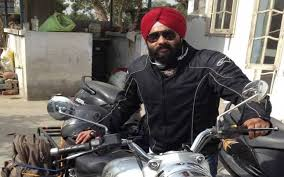helmet: (141, 7, 191, 72)
